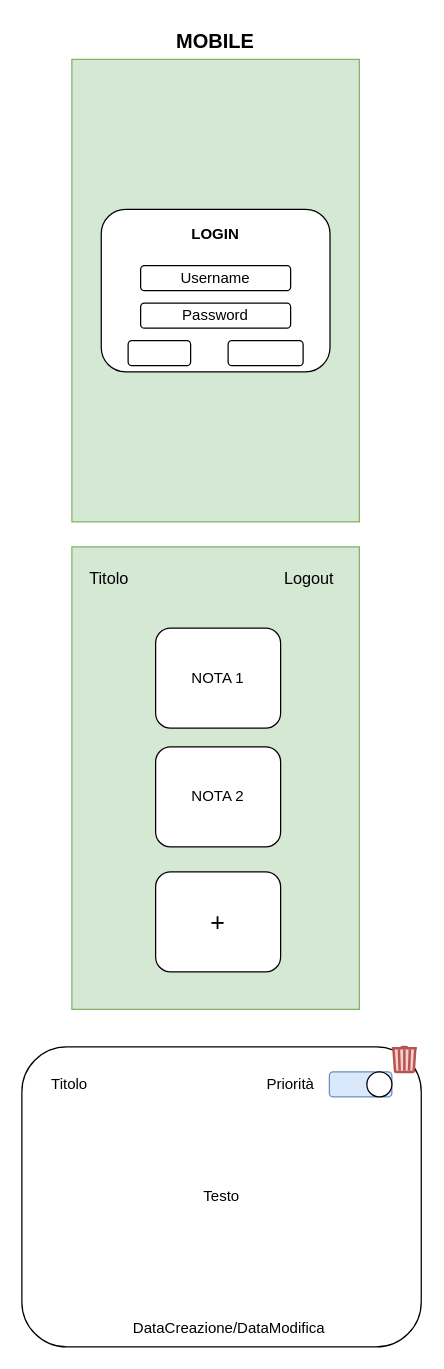
Some shapes in this 444 by 1369 pixel diagram are drawn without their labels. The shapes that lost their labels are listed below. From the top down, each one's centre as x and y in pixels, then its label:
At (159,352): "Accedi".
At (265,352): "Registrati".
